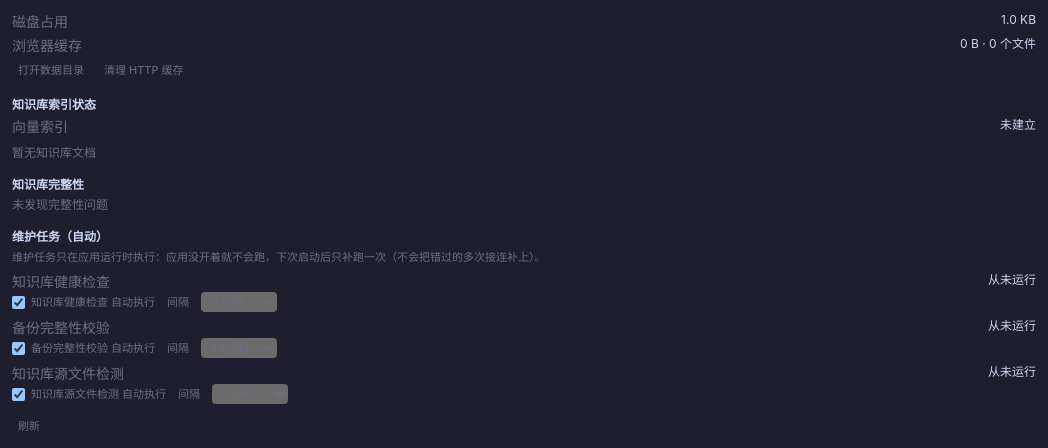
it: ② 改开关／间隔只发这两粒，并以回执为准 › 源文件检测同在可配置闭集：关掉它只发这一粒
This screenshot has width=1048, height=448.
Click the checkbox with test id "dh-task-enabled-kb_source_sync": click(18, 394) x1=12 y1=388 x2=25 y2=401
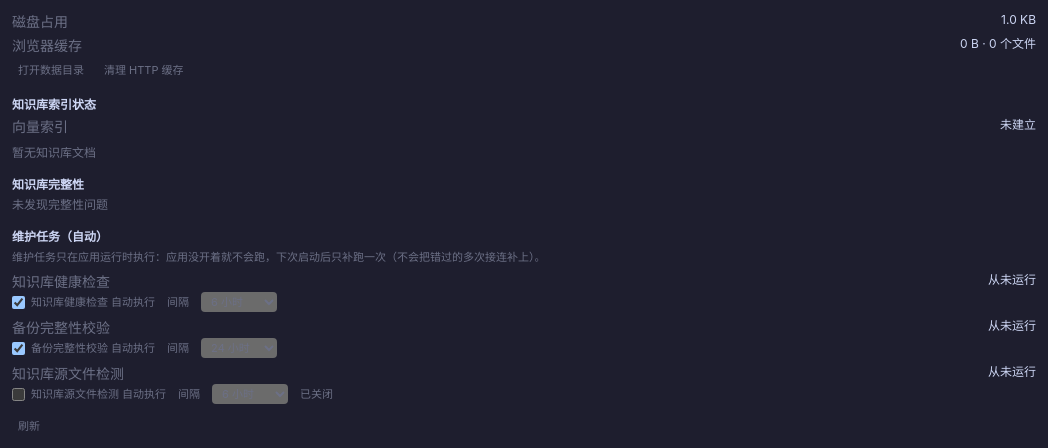
expect the text "已关闭" is shown: met, box x1=300 y1=386 x2=333 y2=403
